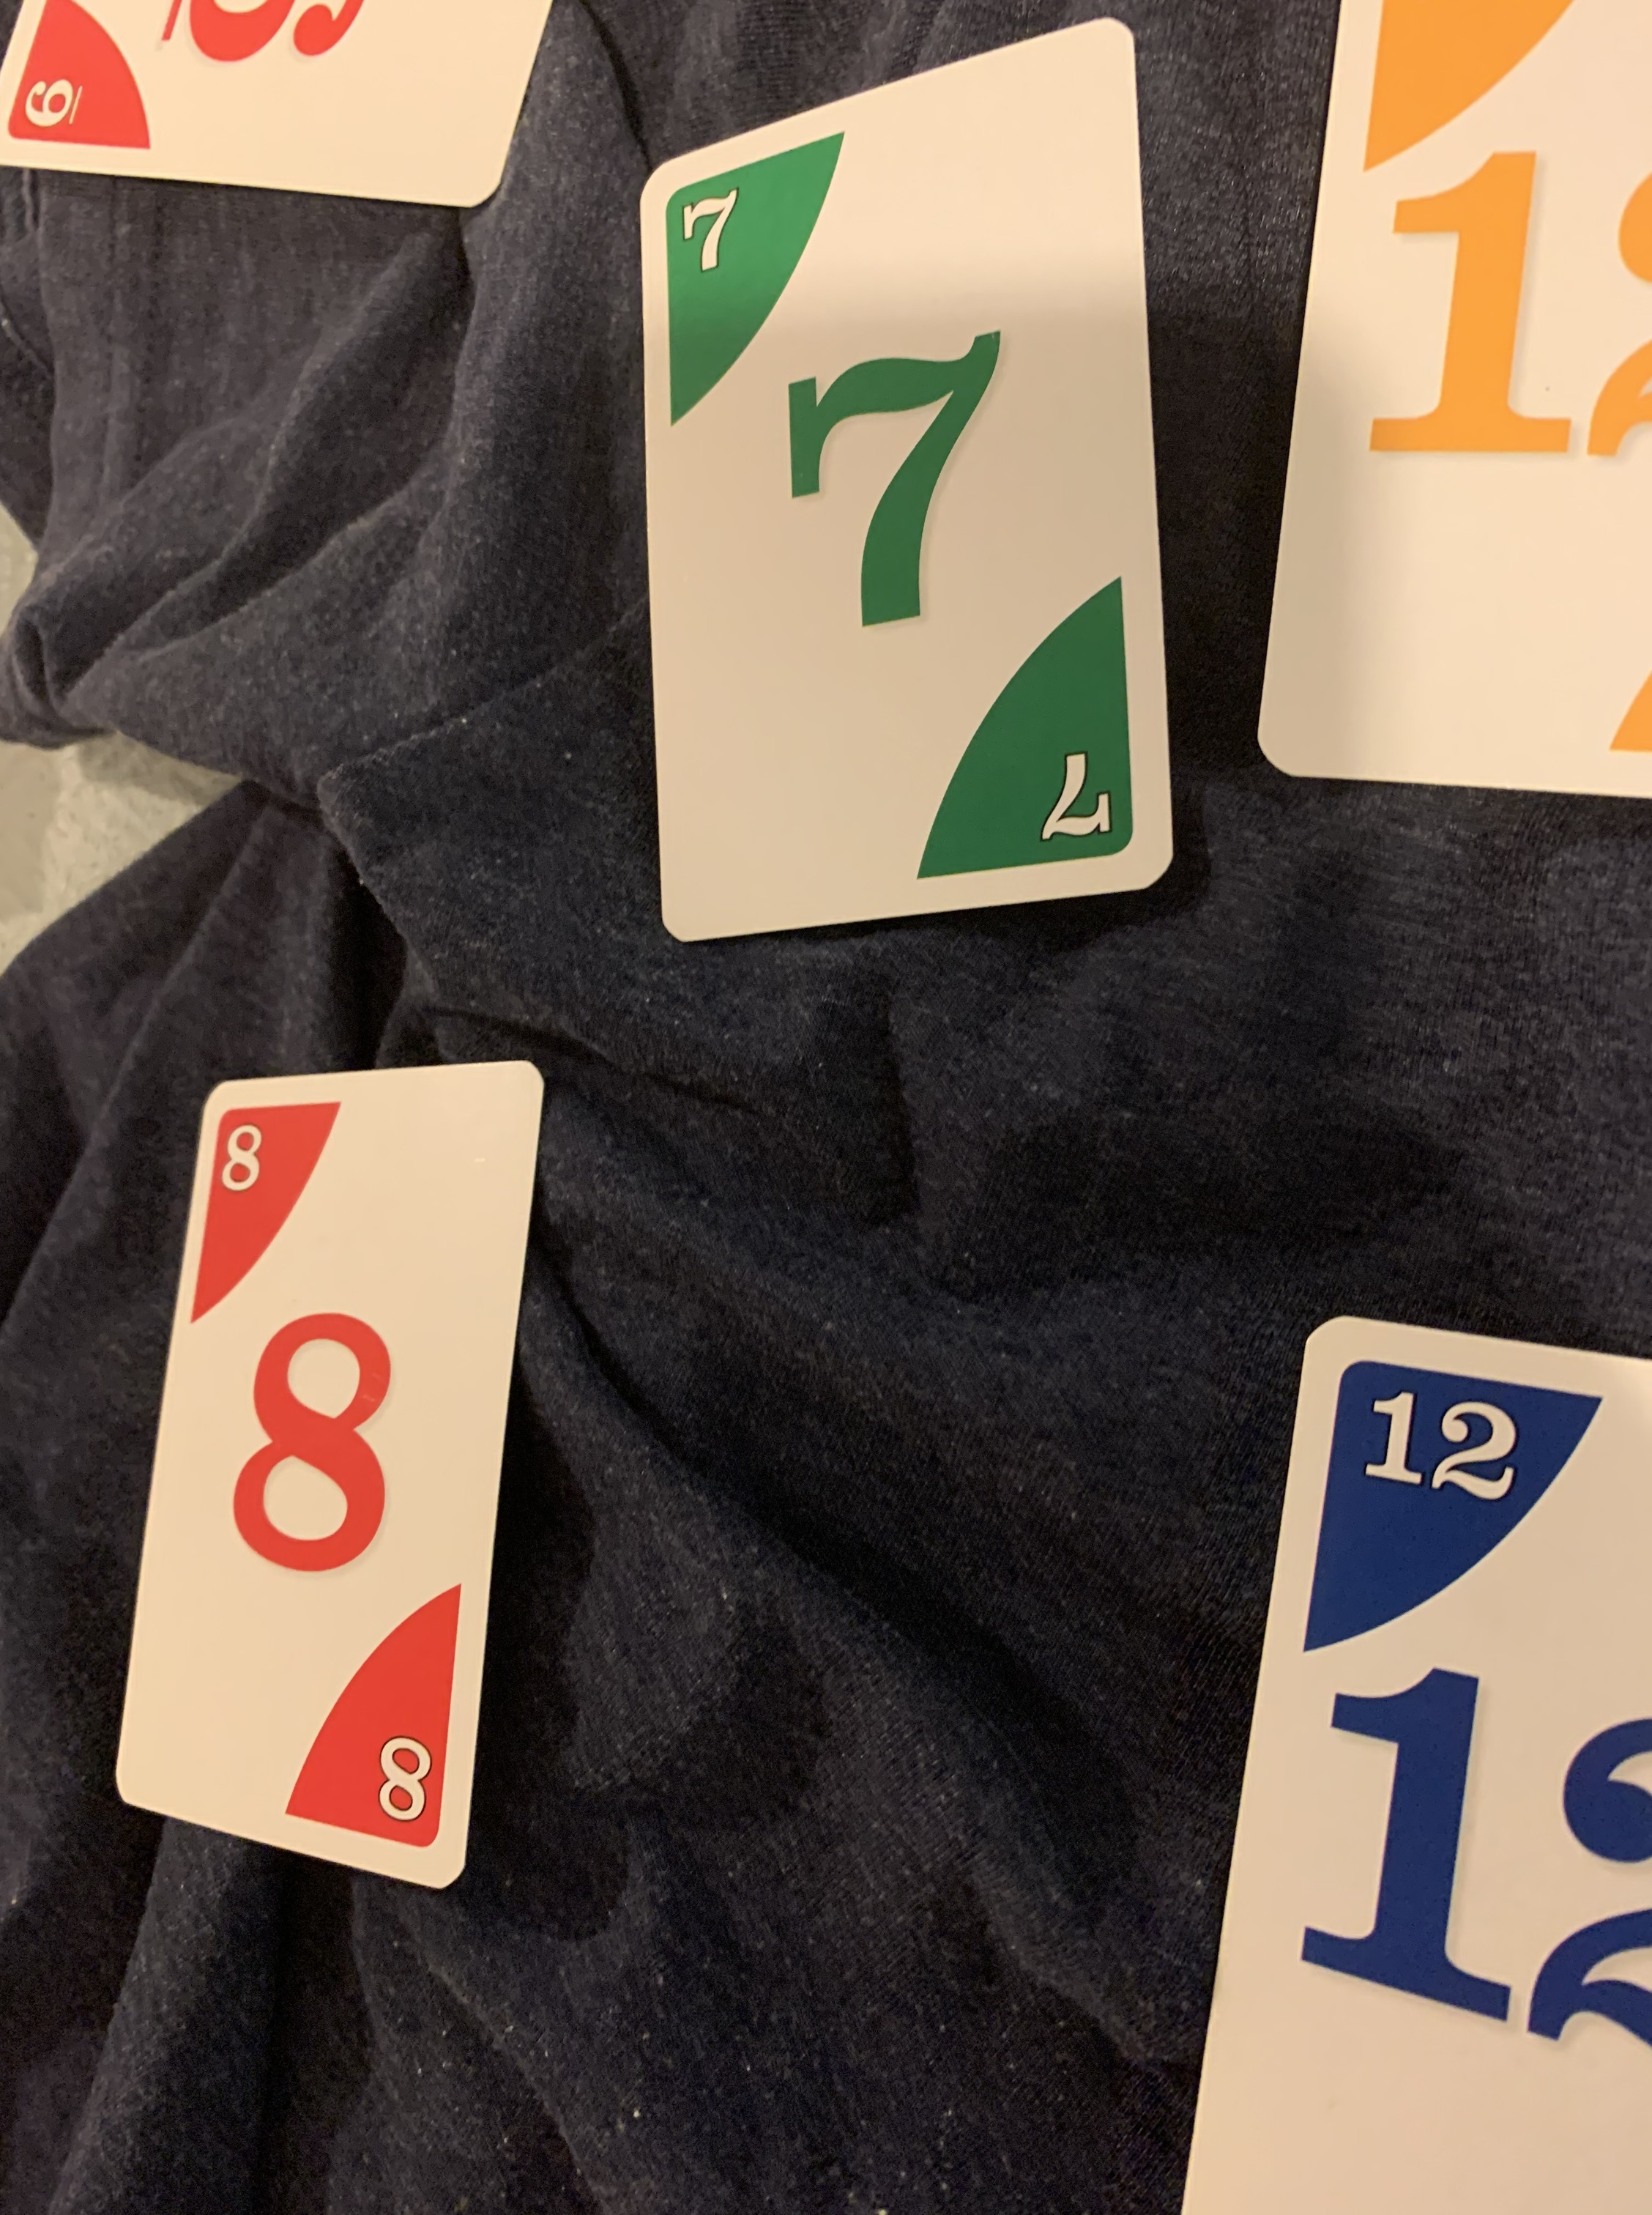eight: (90, 1052, 545, 1889)
seven: (626, 35, 1173, 943)
twelve: (1154, 1316, 1649, 2215)
